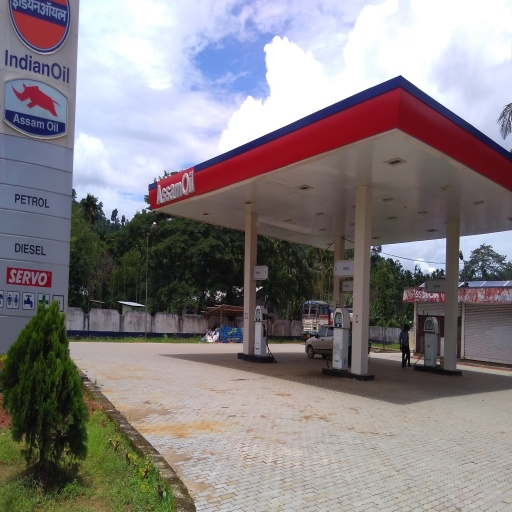roof: (146, 77, 512, 250)
